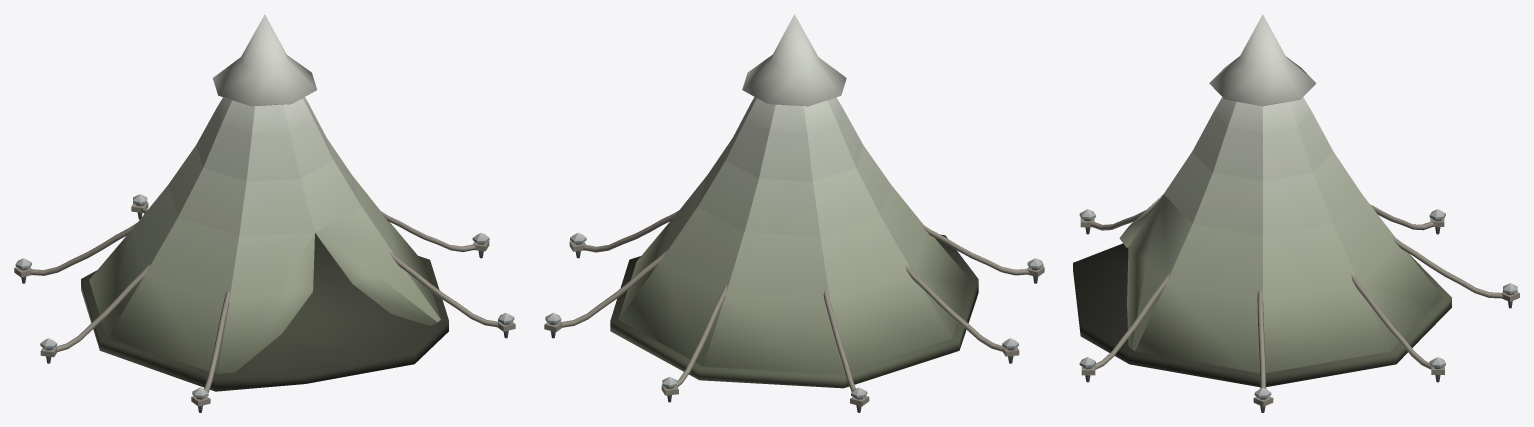
Rendered from tent.fbx.
3 renders of one model, left to right at view 1: azimuth 30°, elevation 25°; view 2: azimuth 150°, elevation 25°; view 3: azimuth 270°, elevation 25°, orthographic.
Parts seen in each view (by area): view 1: Circle.035, Circle.037, BezierCurve, Circle.036; view 2: Circle.035, Circle.037, BezierCurve, Circle.036; view 3: Circle.035, Circle.037, BezierCurve, Circle.036.
Part boxes in pixels (x1,y1,x2,y2): Circle.035: [89, 14, 440, 373]; Circle.037: [81, 233, 448, 391]; BezierCurve: [14, 202, 515, 406]; Circle.036: [15, 194, 514, 412]; Circle.035: [618, 14, 970, 388]; Circle.037: [610, 234, 978, 388]; BezierCurve: [544, 210, 1044, 406]; Circle.036: [545, 232, 1043, 412]; Circle.035: [1119, 14, 1443, 387]; Circle.037: [1073, 243, 1451, 386]; BezierCurve: [1080, 204, 1519, 406]; Circle.036: [1079, 209, 1517, 412].
Size of the model in its own units: 845 by 539 by 735.
